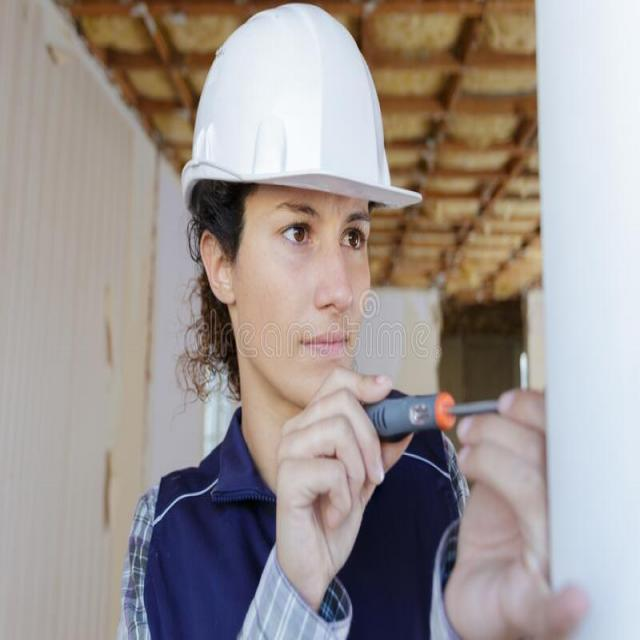screwdriver: (344, 378, 547, 436)
